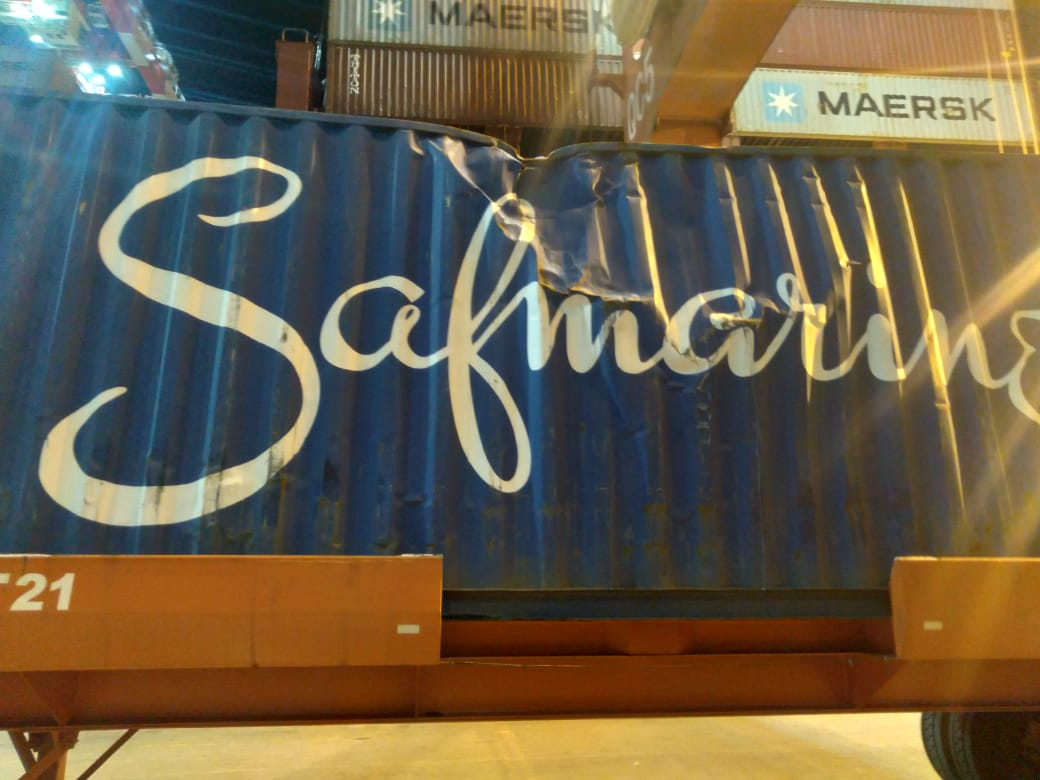bulged: (486, 205, 910, 437)
dented: (415, 150, 633, 242)
